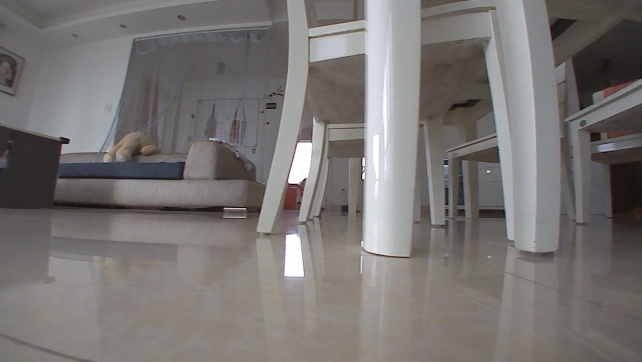dining_table1: (252, 0, 641, 260)
sofa: (55, 137, 266, 215)
